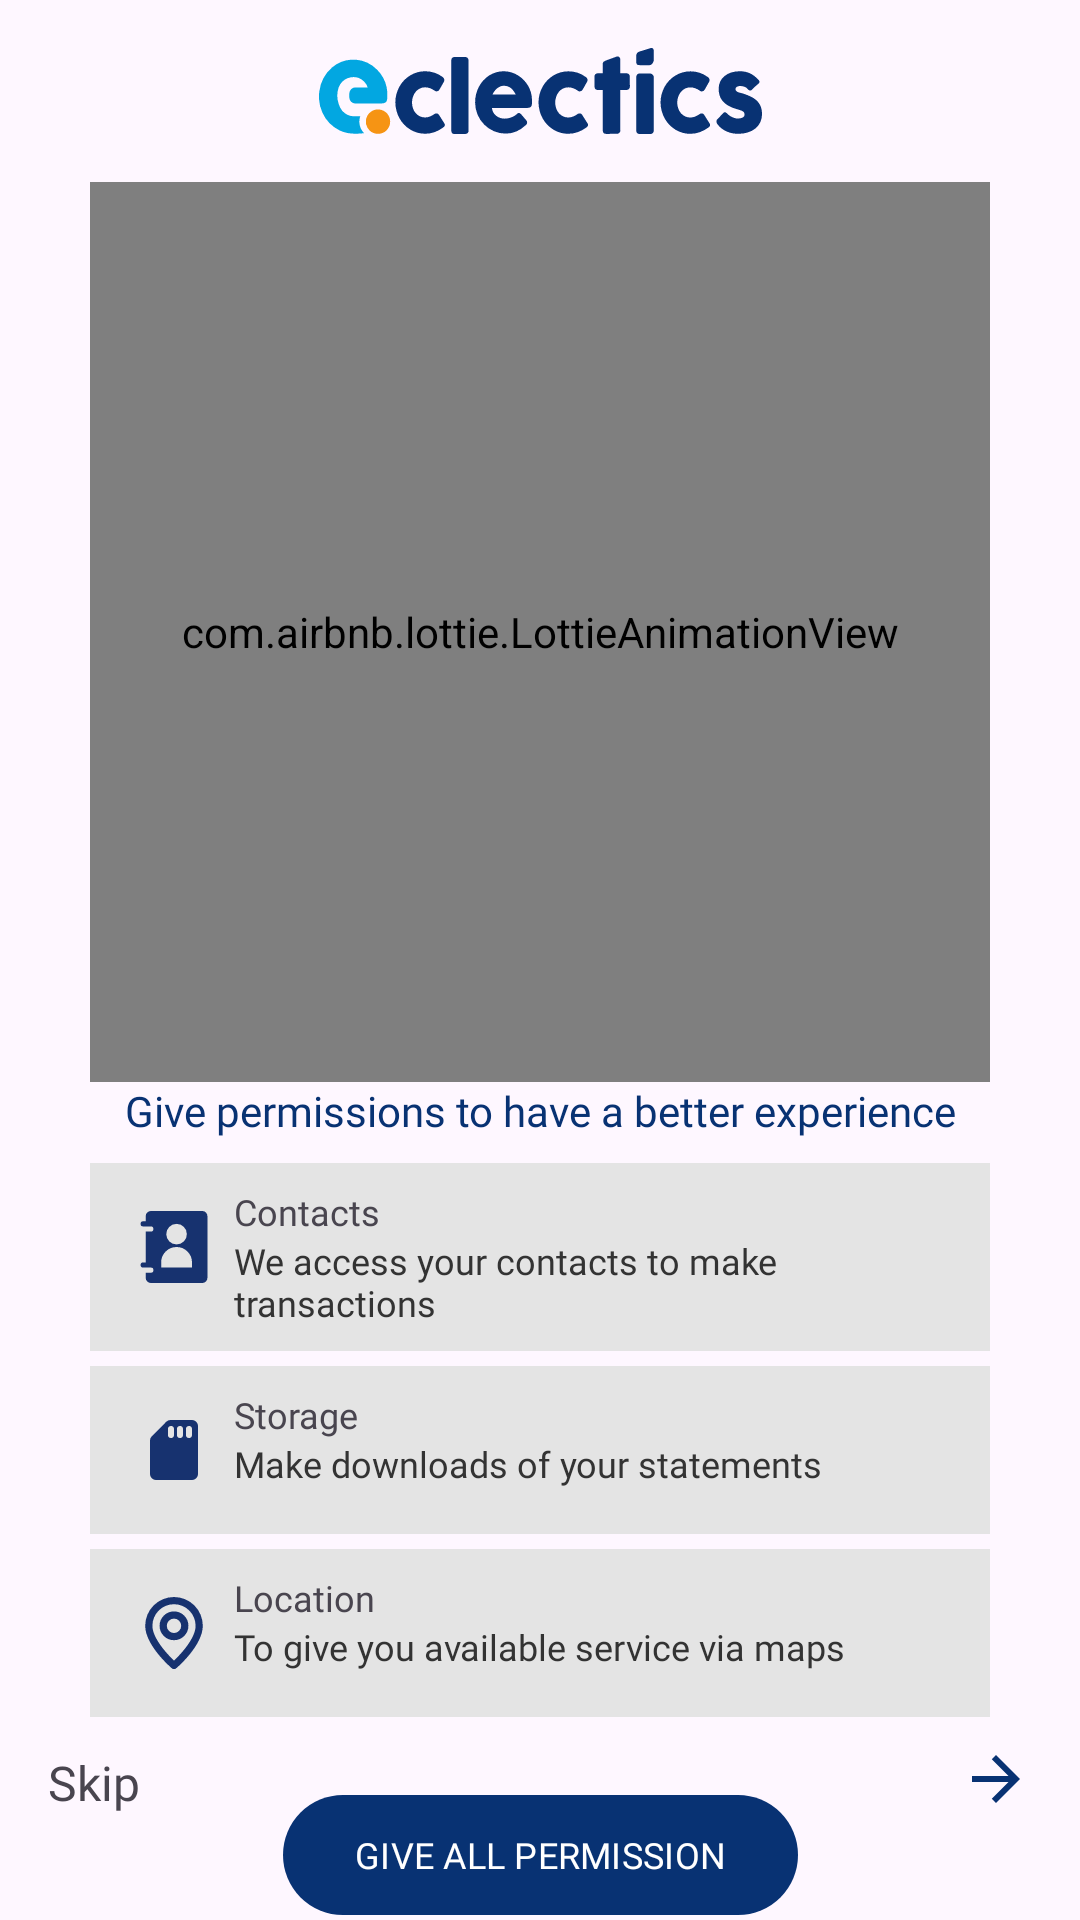

Where icons sit on this 1080 × 1920 app screen, as detection(x1, y1, x2, y2):
next arrow: detection(972, 1755, 1020, 1803)
